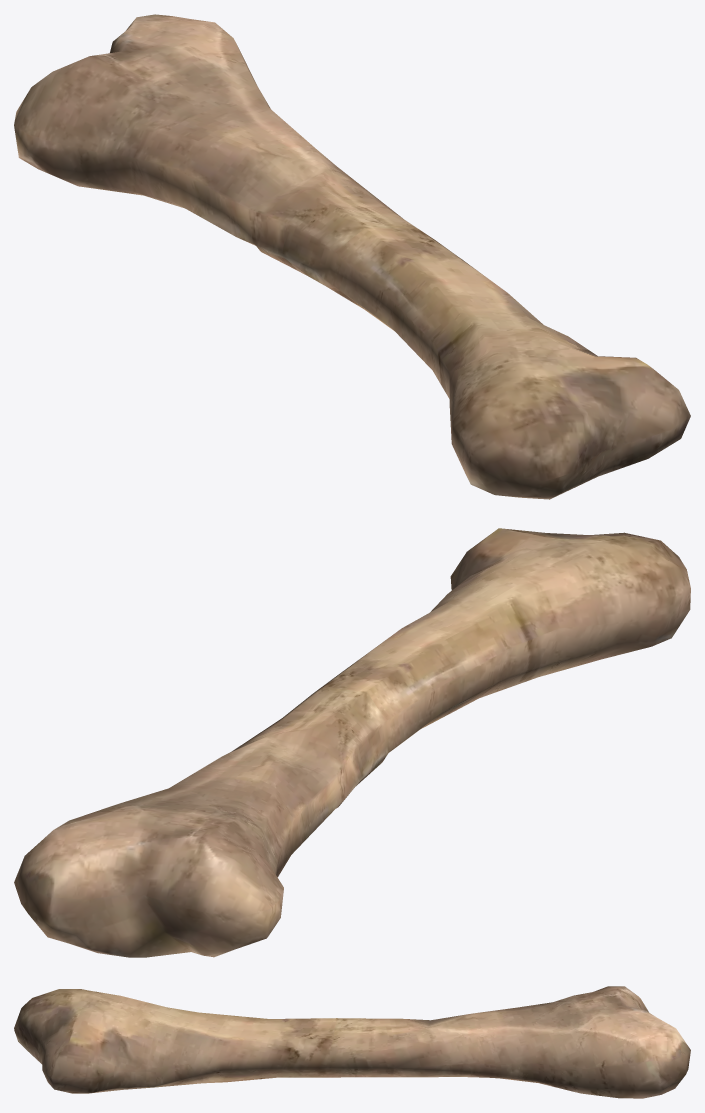
3 views of the same model, one above another, from view 1: azimuth 30°, elevation 25°; view 2: azimuth 150°, elevation 25°; view 3: azimuth 270°, elevation 25° (orthographic). The views are drawn at different scales.
Visible parts, largest first — view 1: SM_Animal_Bone_01_LOD0; view 2: SM_Animal_Bone_01_LOD0; view 3: SM_Animal_Bone_01_LOD0.
Part boxes in pixels (bbox=[...]): SM_Animal_Bone_01_LOD0: bbox=[14, 14, 690, 499]; SM_Animal_Bone_01_LOD0: bbox=[14, 528, 690, 957]; SM_Animal_Bone_01_LOD0: bbox=[14, 986, 690, 1098].
Size of the model in its own units: 0.1305 by 0.0641 by 0.5045.
Materials: 1 (1 with a texture image).
